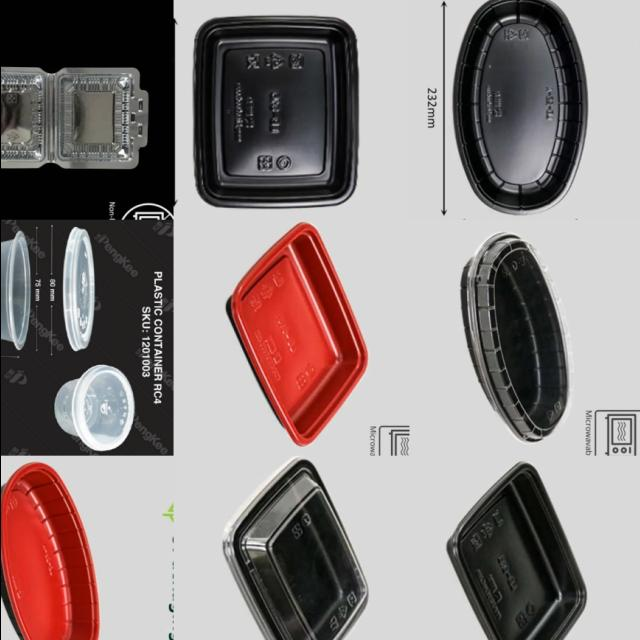plastik: (194, 17, 357, 206), (228, 223, 367, 444), (454, 0, 586, 215), (223, 459, 367, 640), (447, 462, 585, 640), (461, 233, 571, 443), (0, 462, 98, 640), (0, 67, 147, 169), (54, 365, 133, 451), (62, 227, 94, 352), (0, 231, 29, 350)
